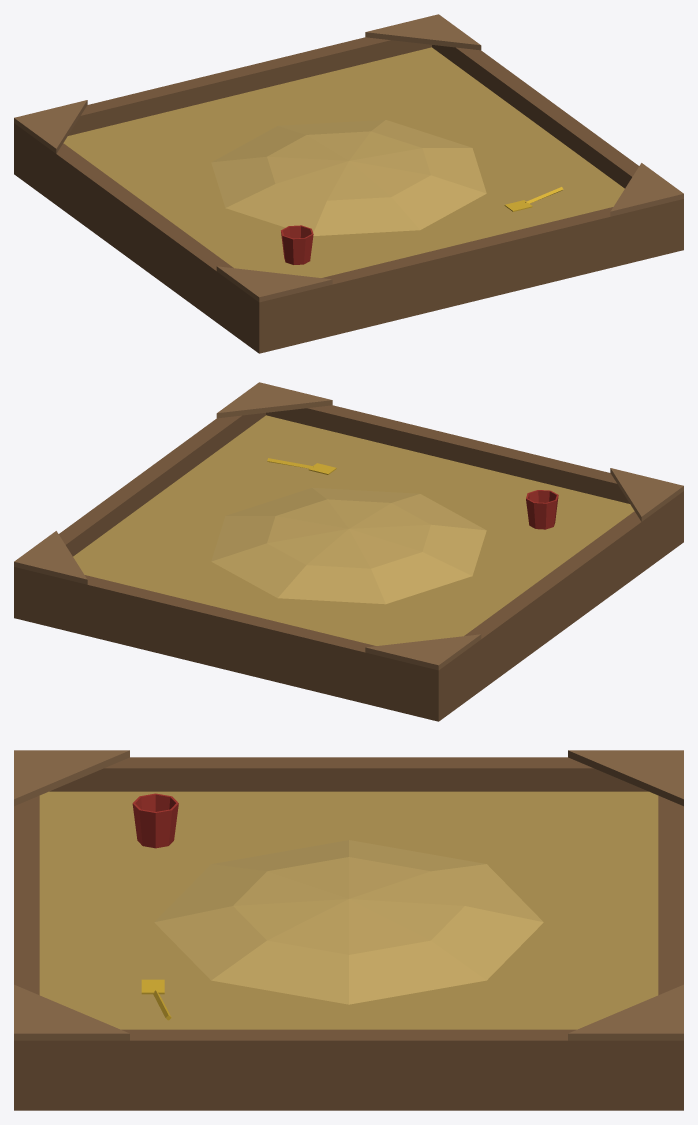
Rendered from bac_a_sable.glb.
3 renders of one model, top to bottom at view 1: azimuth 30°, elevation 25°; view 2: azimuth 150°, elevation 25°; view 3: azimuth 270°, elevation 25°, orthographic. The views are drawn at different scales.
Visible parts, largest first — view 1: sand, boards_x, heap, boards_y, seat_4, seat, seat_2, seat_3, bucket; view 2: sand, boards_x, heap, boards_y, seat_2, seat_3, seat_4, seat, bucket; view 3: sand, boards_y, heap, boards_x, seat, seat_3, seat_2, seat_4, bucket.
Boxes of the visible parts, left/top/right/bottom form: sand: left=63, top=47, right=624, bottom=277; boards_x: left=14, top=37, right=683, bottom=353; heap: left=211, top=119, right=486, bottom=235; boards_y: left=23, top=45, right=638, bottom=346; seat_4: left=216, top=266, right=332, bottom=302; seat: left=365, top=14, right=481, bottom=50; seat_2: left=14, top=100, right=87, bottom=153; seat_3: left=610, top=163, right=683, bottom=216; bucket: left=281, top=225, right=313, bottom=264; sand: left=73, top=415, right=634, bottom=645; boards_x: left=14, top=405, right=683, bottom=721; heap: left=211, top=487, right=486, bottom=604; boards_y: left=59, top=413, right=674, bottom=714; seat_2: left=365, top=634, right=481, bottom=670; seat_3: left=216, top=382, right=332, bottom=418; seat_4: left=610, top=468, right=683, bottom=521; seat: left=14, top=531, right=87, bottom=584; bucket: left=526, top=490, right=558, bottom=529; sand: left=39, top=791, right=658, bottom=1029; boards_y: left=39, top=757, right=658, bottom=1110; heap: left=154, top=840, right=543, bottom=1004; boards_x: left=14, top=795, right=683, bottom=1110; seat: left=568, top=984, right=683, bottom=1040; seat_3: left=14, top=984, right=129, bottom=1040; seat_2: left=568, top=750, right=683, bottom=806; seat_4: left=14, top=750, right=129, bottom=806; bucket: left=132, top=793, right=178, bottom=848.
Size of the model in its own units: 2.6 by 0.36 by 2.6.
6 materials, 6 textured.
